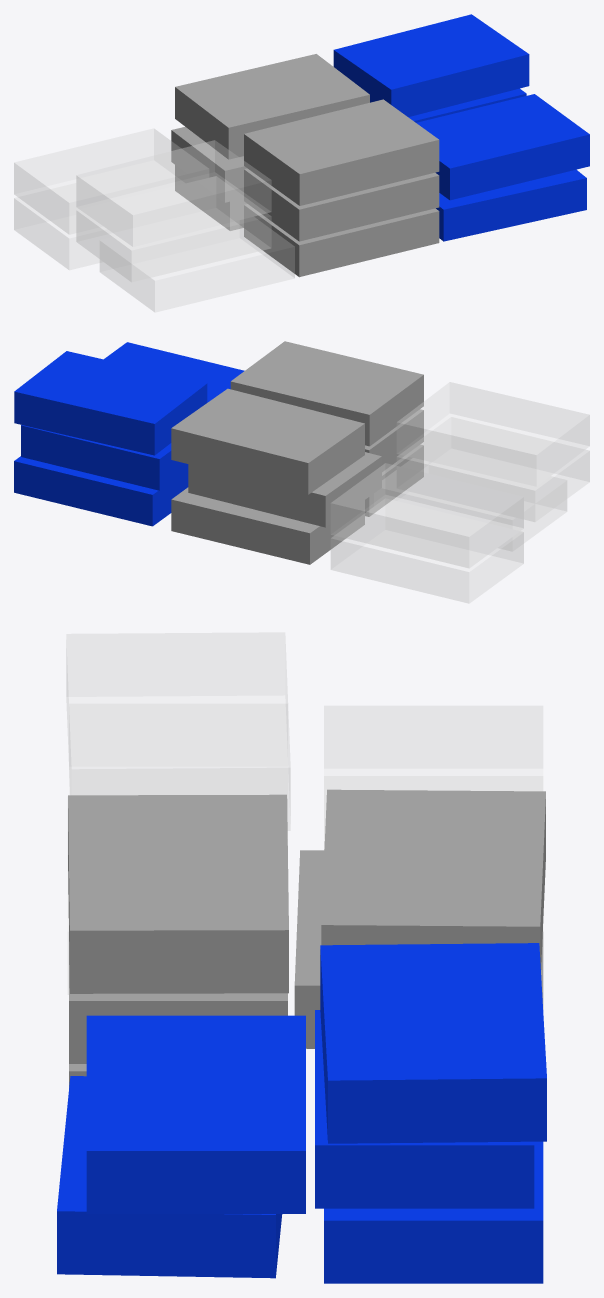
The model's file is FrozenBox_vhvpd4_Pack03.fbx.
3 views of the same model, one above another, from view 1: azimuth 30°, elevation 25°; view 2: azimuth 150°, elevation 25°; view 3: azimuth 270°, elevation 25° (orthographic). The views are drawn at different scales.
Visible parts, largest first — view 1: FrozenBox_vhvpd4_Pack03; view 2: FrozenBox_vhvpd4_Pack03; view 3: FrozenBox_vhvpd4_Pack03.
Part boxes in pixels (x1,y1,x2,y2): FrozenBox_vhvpd4_Pack03: (14,14,589,312); FrozenBox_vhvpd4_Pack03: (14,341,589,603); FrozenBox_vhvpd4_Pack03: (57,632,546,1283).
Size of the model in its own units: 94.92 by 20.16 by 43.86.
